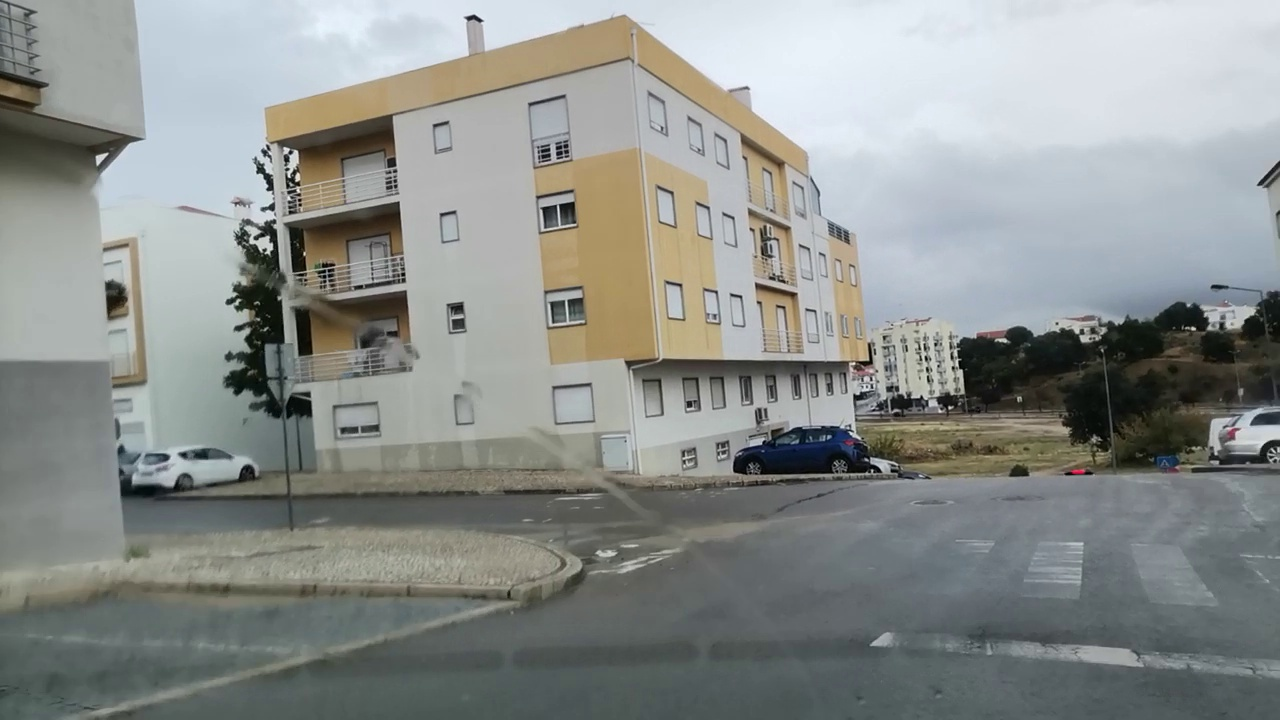Stairs: (572, 537, 1280, 634)
